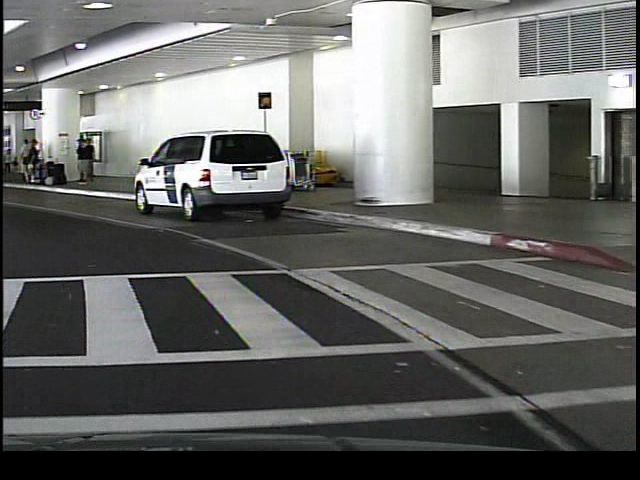person: (81, 138, 96, 187), (13, 132, 27, 184)
